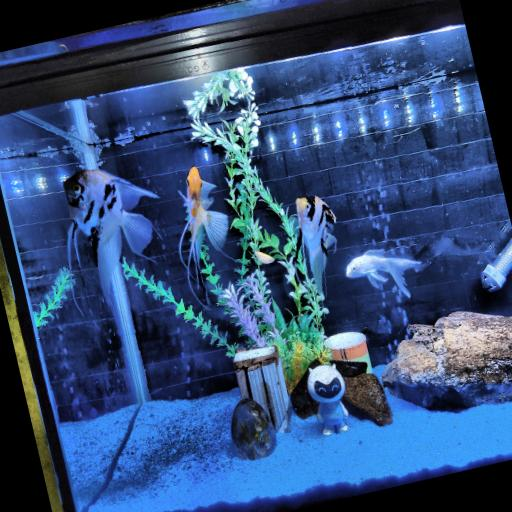Fish: (64, 170, 157, 302), (180, 166, 229, 294), (296, 196, 336, 296), (346, 250, 420, 297), (254, 251, 275, 264)
